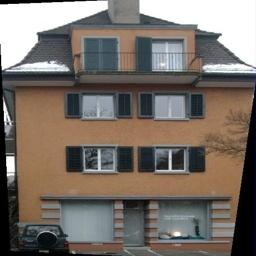building: (10, 0, 254, 256)
